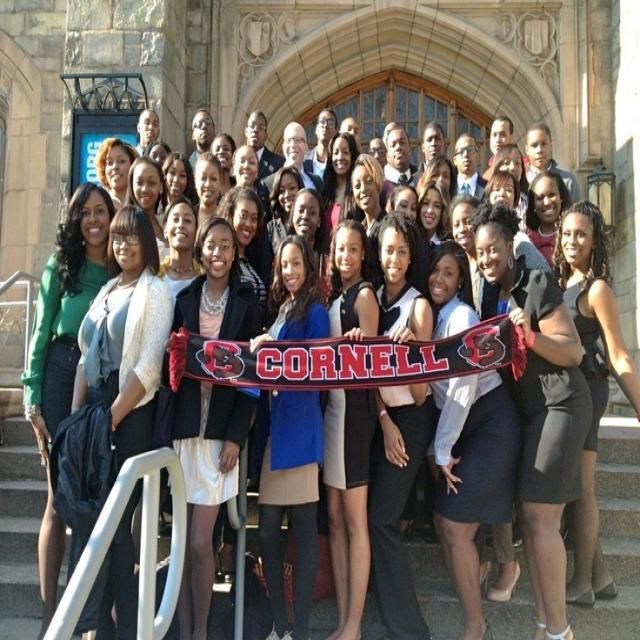body: (46, 204, 177, 639), (468, 195, 596, 639), (152, 214, 264, 640), (19, 178, 118, 640), (418, 236, 528, 639), (246, 229, 335, 639), (551, 198, 639, 608), (360, 209, 443, 639), (318, 218, 383, 640), (211, 183, 275, 586), (228, 140, 276, 291), (122, 152, 176, 269), (259, 118, 328, 209), (153, 196, 204, 312), (286, 184, 334, 303), (321, 128, 366, 252), (522, 167, 576, 270), (350, 152, 390, 280), (523, 122, 581, 208), (492, 140, 544, 234), (447, 191, 483, 320), (264, 162, 307, 258), (94, 136, 142, 213), (338, 115, 402, 172), (480, 113, 532, 183), (243, 108, 288, 184), (300, 104, 341, 184), (449, 130, 490, 205), (157, 148, 200, 217), (413, 176, 453, 247), (192, 150, 225, 228), (208, 130, 241, 207), (146, 138, 172, 231), (384, 124, 419, 188), (185, 106, 218, 172), (414, 153, 458, 198), (416, 118, 449, 175), (384, 181, 419, 231), (482, 168, 520, 210), (134, 108, 162, 158)
